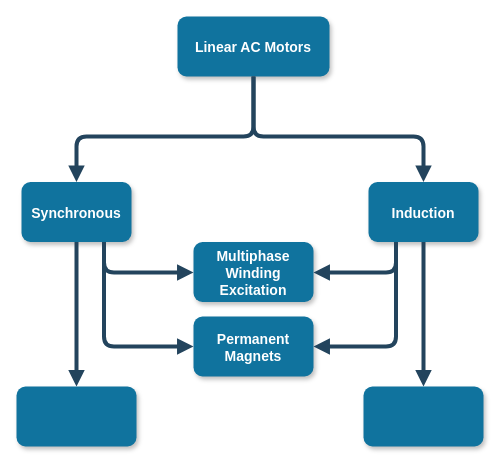
Some shapes in this 500 by 463 pixel diagram are drawn without their labels. Here are the shapes that lost their labels. From the top down, the centre of each, then its label:
(77,417): Synchronism with Excitation Frequency
(424,417): Magnetic slip
